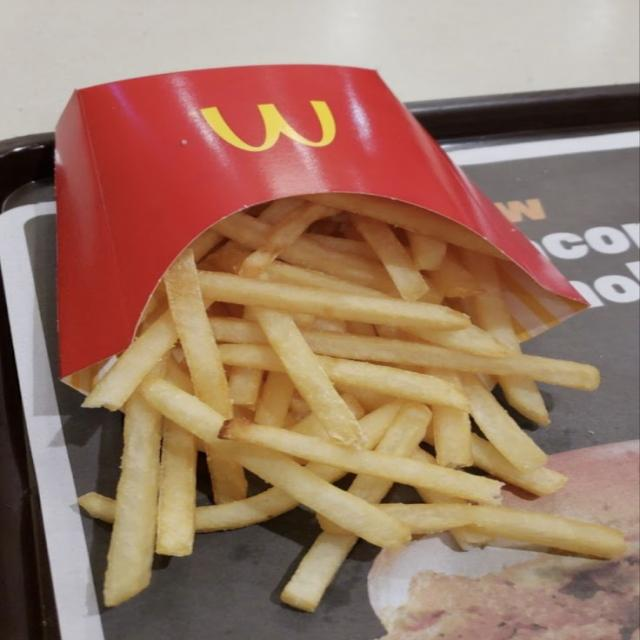potato fries: (80, 194, 624, 611), (221, 421, 501, 503), (200, 271, 469, 330), (254, 308, 362, 445), (104, 392, 161, 606), (240, 203, 335, 276), (352, 215, 428, 301), (407, 232, 446, 270)
